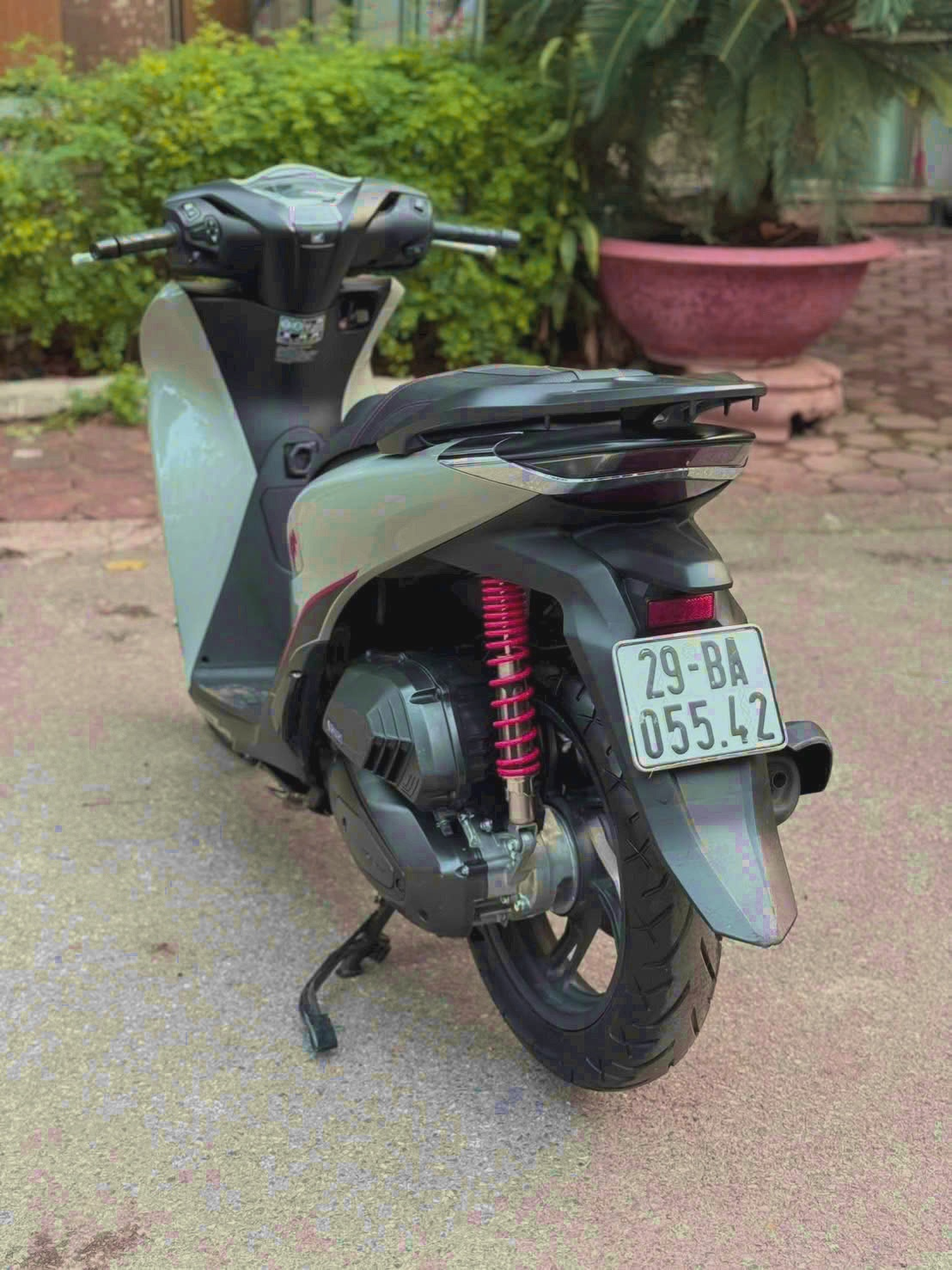Bien-so: (593, 605, 775, 774)
